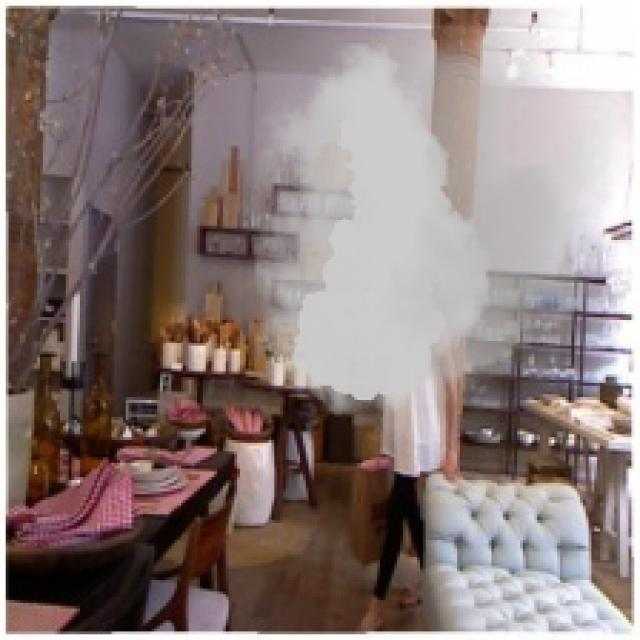smoke: (223, 17, 637, 429)
